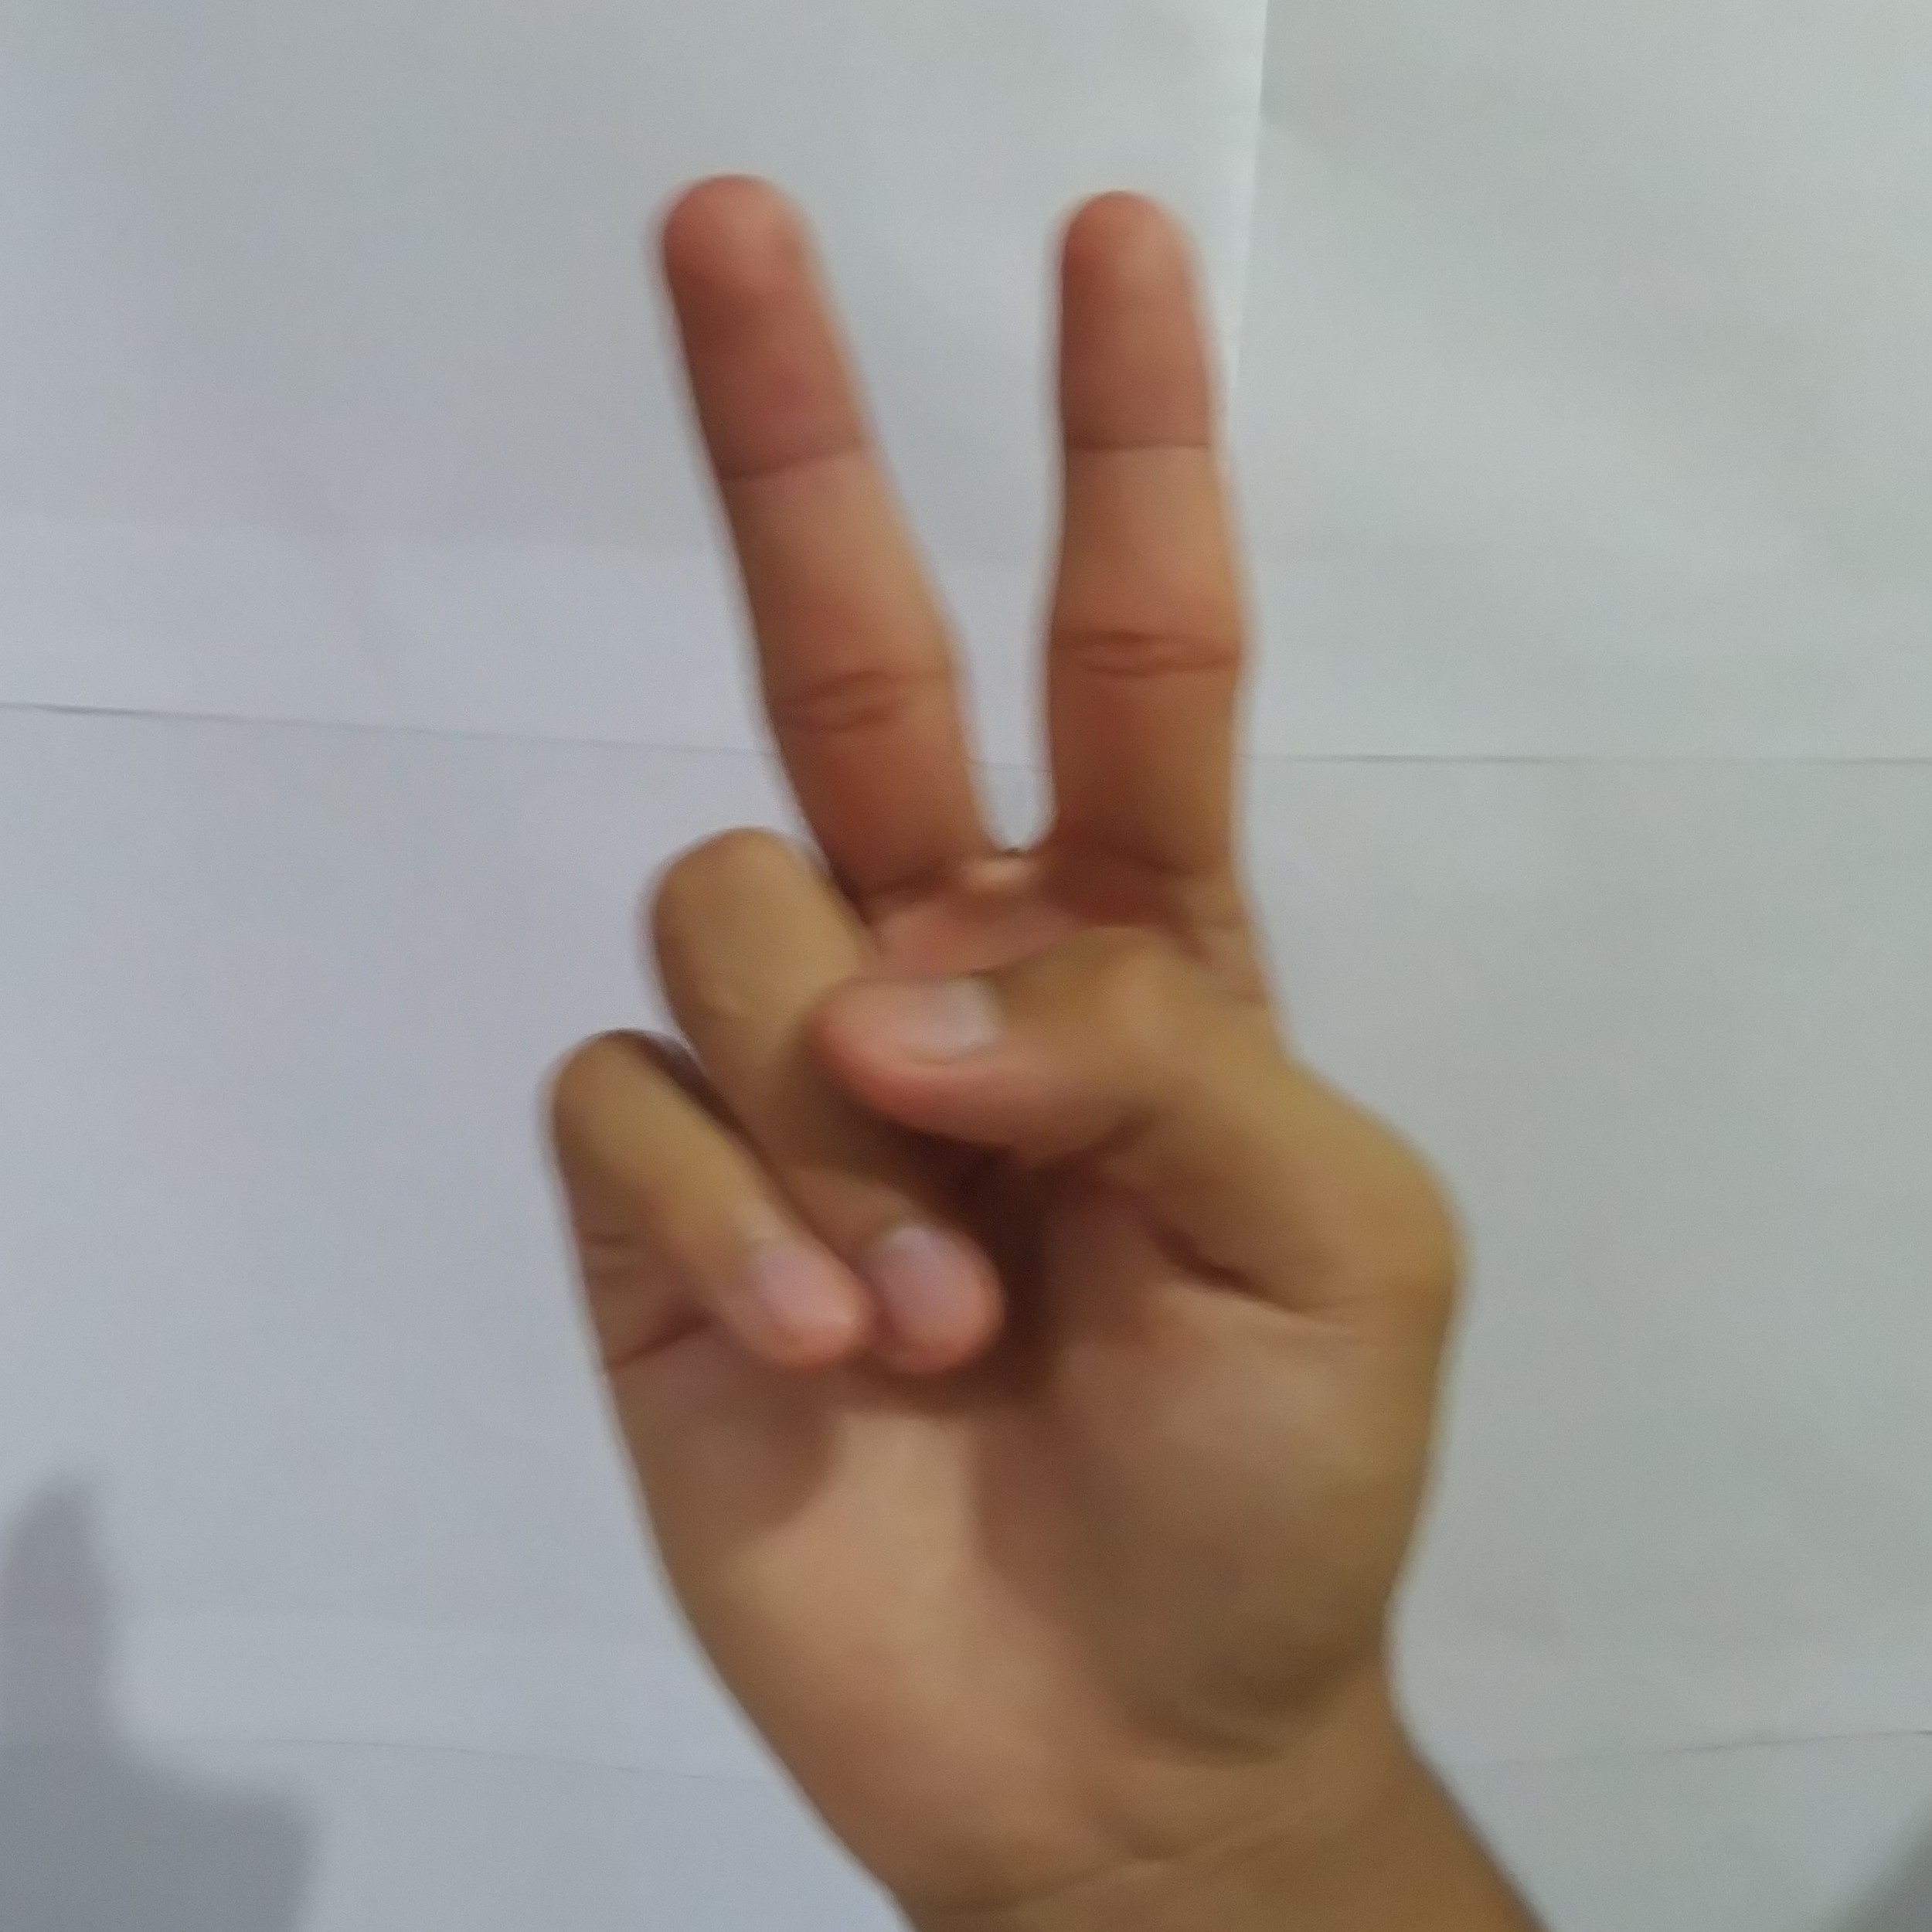V: (504, 134, 1490, 1856)
